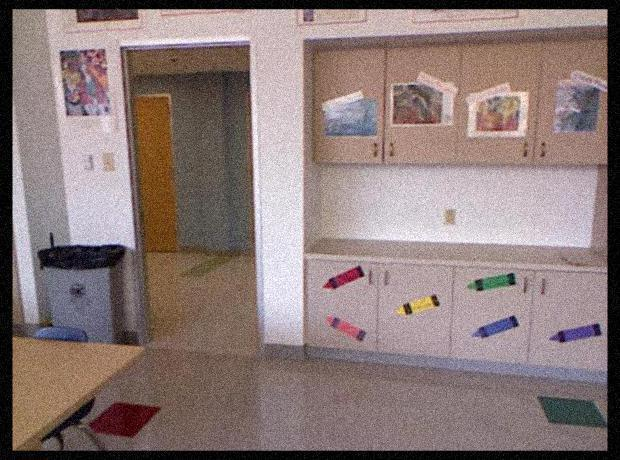Bote de Basura: (42, 241, 126, 363)
